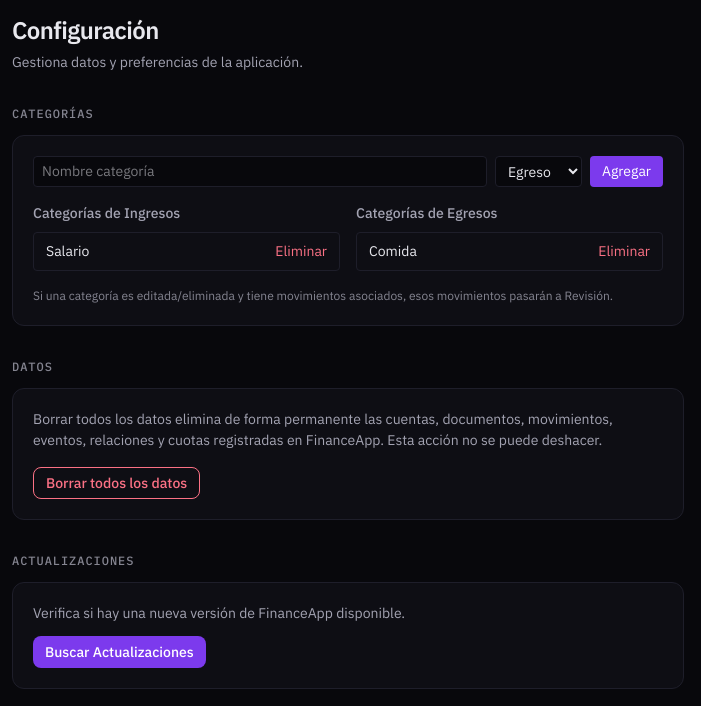
Test: SettingsPage › deletes a category through the api
Check: the text "Comida" is shown, box top-left (369, 241), bottom-right (417, 262)
Click the button "Eliminar" in the row of "Comida": (624, 252) top-left (598, 241), bottom-right (650, 262)
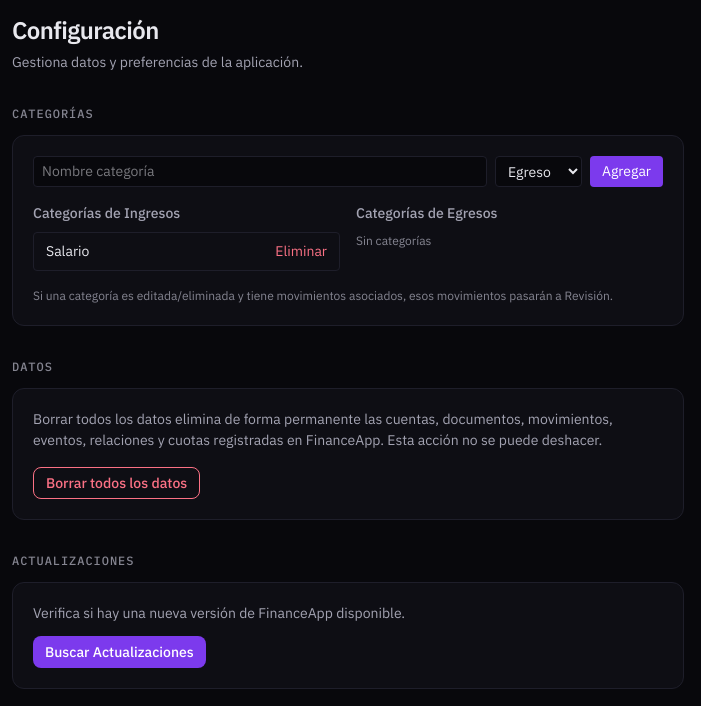
Check: the text "Comida" is gone
